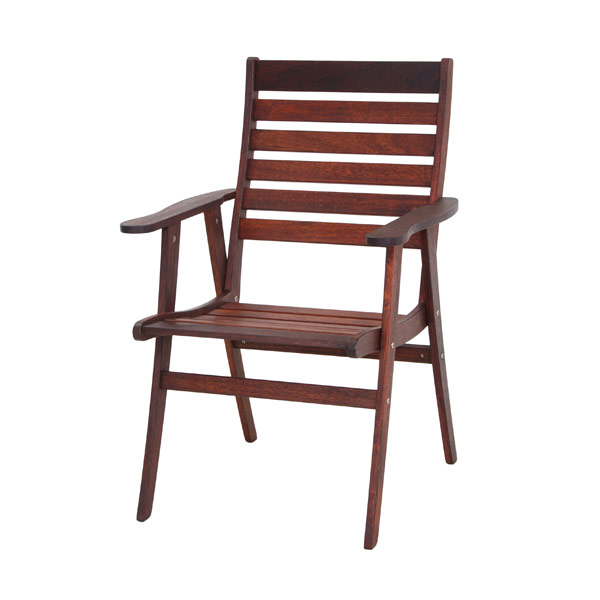chairs: (113, 51, 462, 556)
